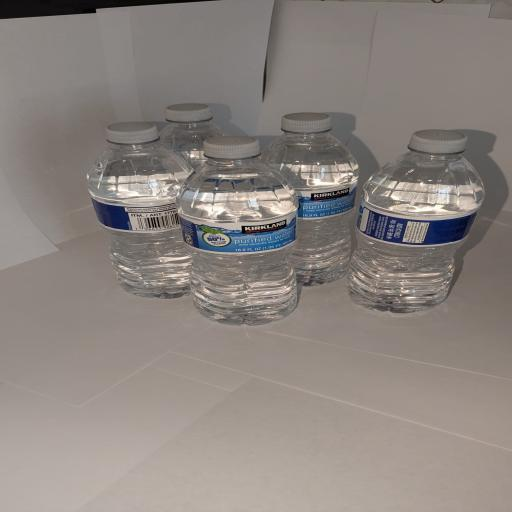waterbottle: (348, 131, 484, 312), (179, 137, 297, 325), (88, 123, 192, 298), (261, 113, 358, 285), (161, 104, 227, 169)
